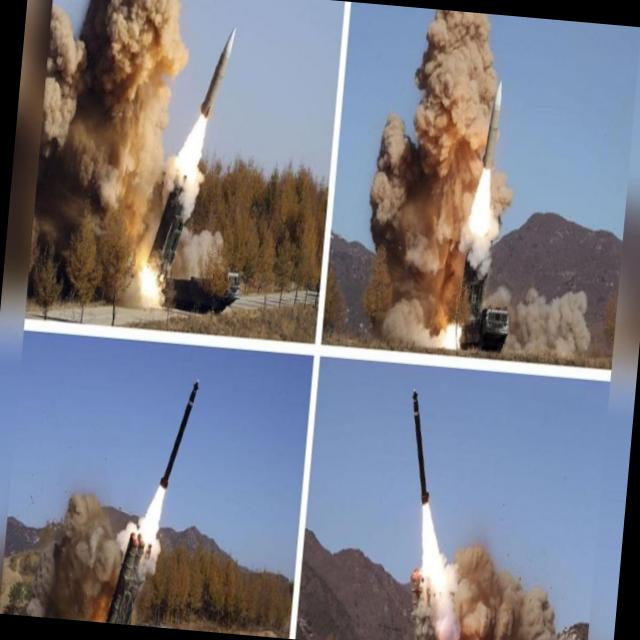rocket: (391, 390, 459, 598), (135, 373, 204, 551), (172, 15, 236, 190)
